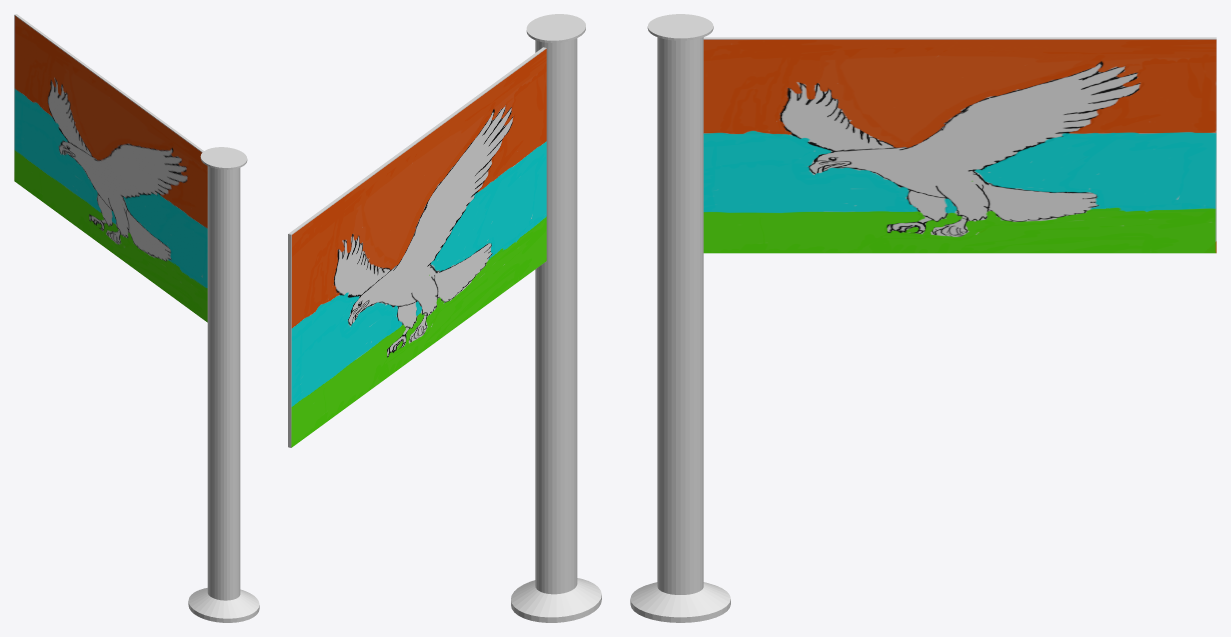
File: el_celebracion_boulevard_roundabout.fbx
3 renders of one model, left to right at view 1: azimuth 30°, elevation 25°; view 2: azimuth 150°, elevation 25°; view 3: azimuth 270°, elevation 25°, orthographic. The views are drawn at different scales.
Parts seen in each view (by area): view 1: Cube, Cylinder; view 2: Cube, Cylinder; view 3: Cube, Cylinder.
Part boxes in pixels (left/top/right/bottom): Cube: left=14, top=14, right=207, bottom=322; Cylinder: left=188, top=147, right=259, bottom=622; Cube: left=288, top=47, right=546, bottom=447; Cylinder: left=511, top=14, right=601, bottom=622; Cube: left=703, top=37, right=1216, bottom=253; Cylinder: left=630, top=14, right=730, bottom=622.
Size of what is drawn, in the model's own units: 4770 by 34464 by 31669.
